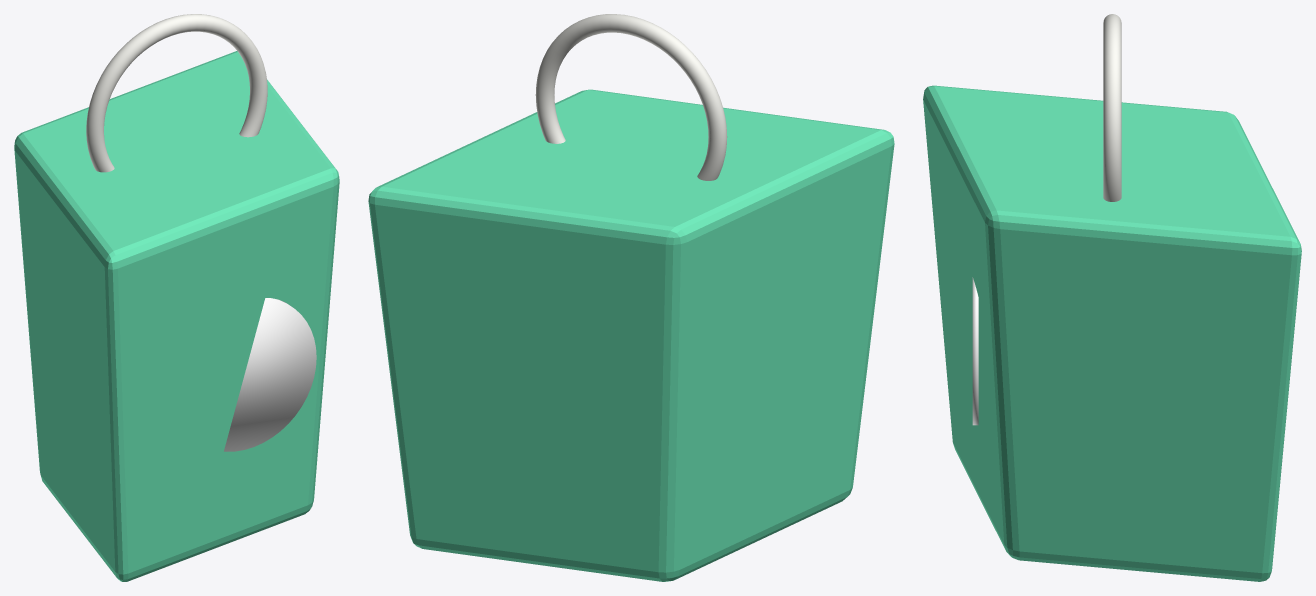
File: shop-bag.glb
3 renders of one model, left to right at view 1: azimuth 30°, elevation 25°; view 2: azimuth 150°, elevation 25°; view 3: azimuth 270°, elevation 25°, orthographic. The views are drawn at different scales.
Parts seen in each view (by area): view 1: Cone, Cylinder, Torus; view 2: Cone, Torus; view 3: Cone, Torus, Cylinder.
Part boxes in pixels (x1,y1,x2,y2): Cone: (14, 51, 339, 581); Cylinder: (224, 298, 316, 451); Torus: (86, 14, 267, 172); Cone: (368, 89, 894, 581); Torus: (535, 14, 727, 180); Cone: (923, 85, 1301, 581); Torus: (1103, 14, 1121, 201); Cylinder: (972, 277, 978, 425).
Size of the model in its own units: 0.7718 by 1.11 by 0.7718.
